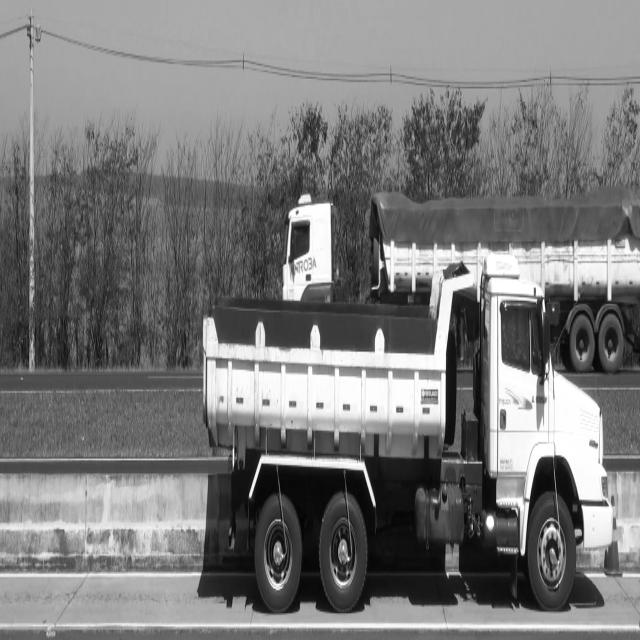Truck: (203, 253, 612, 611), (281, 188, 640, 373)
